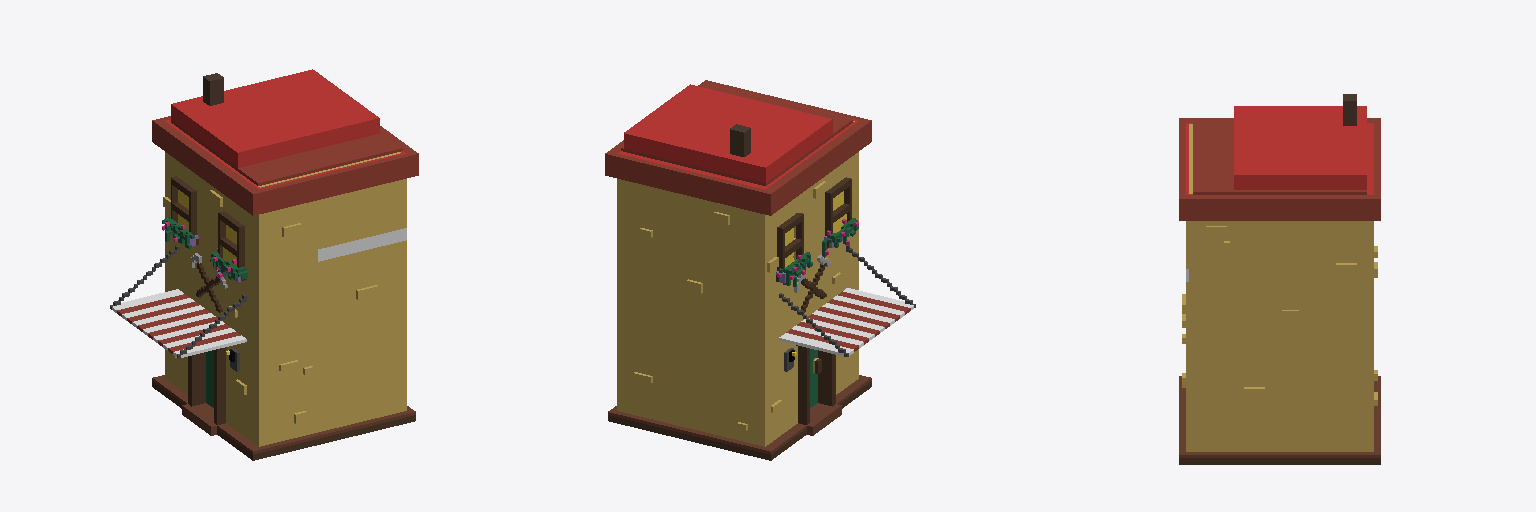
3 renders of one model, left to right at view 1: azimuth 30°, elevation 25°; view 2: azimuth 150°, elevation 25°; view 3: azimuth 270°, elevation 25°, orthographic.
Size of the model in its own units: 76 by 100 by 59.
Materials: 1 (1 with a texture image).